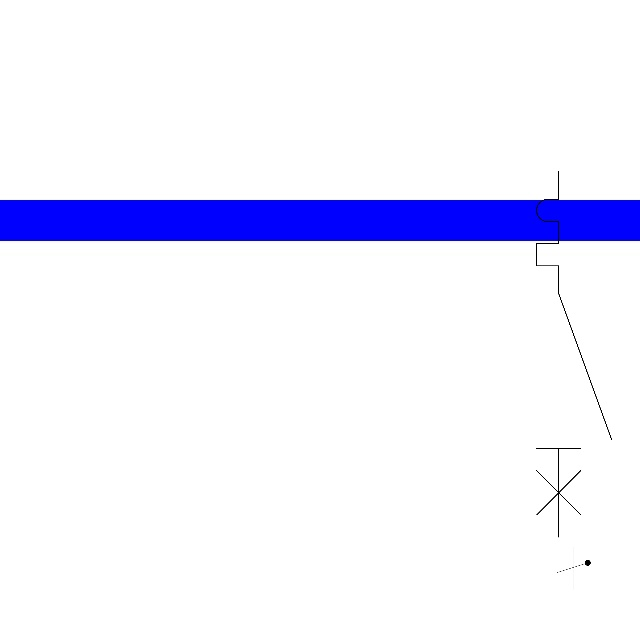interruptor_termomagnetico: (527, 162, 621, 546)
